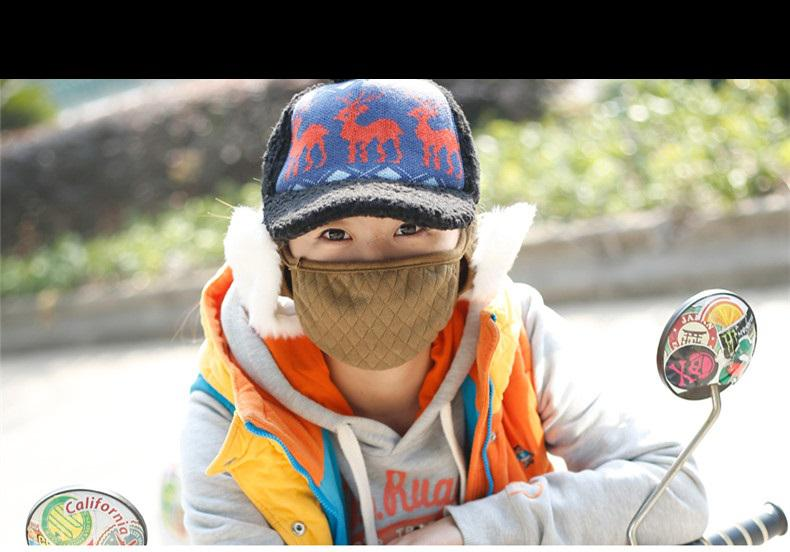OK: (284, 198, 456, 370)
